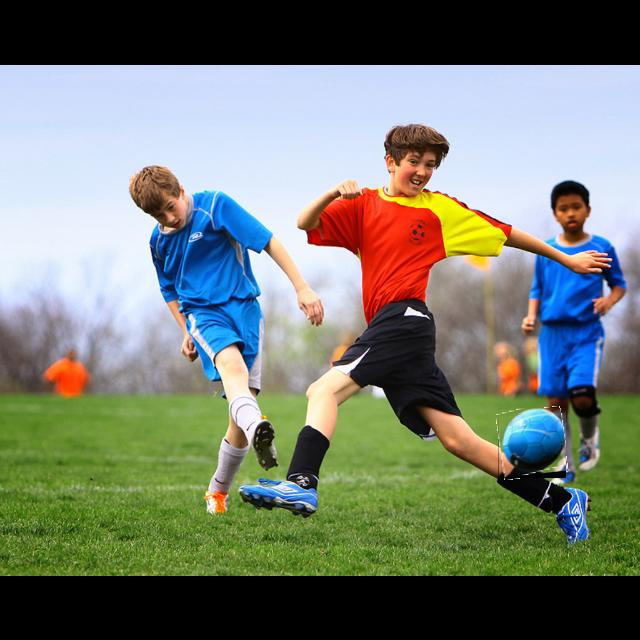Football: (498, 408, 566, 478)
